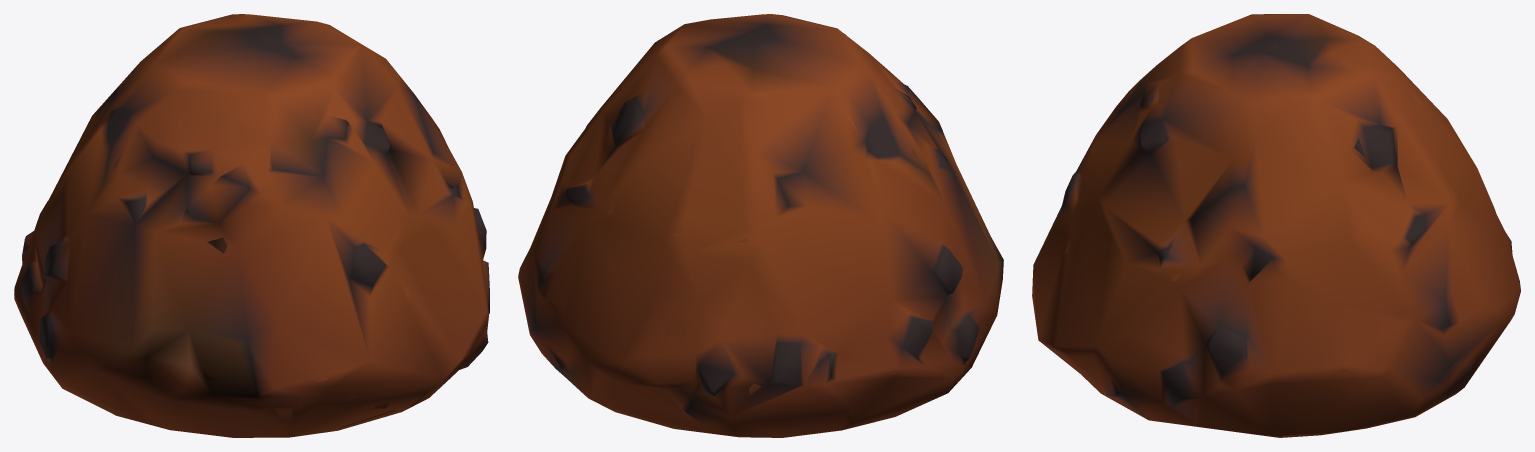
File: gen3d-volcanic-rock-lod1.glb
3 renders of one model, left to right at view 1: azimuth 30°, elevation 25°; view 2: azimuth 150°, elevation 25°; view 3: azimuth 270°, elevation 25°, orthographic.
Parts seen in each view (by area): view 1: part_0; view 2: part_0; view 3: part_0.
Boxes of the visible parts, <box> form: part_0: <box>14,14,489,437</box>; part_0: <box>518,14,1003,437</box>; part_0: <box>1032,14,1520,437</box>.
Size of the model in its own units: 1.33 by 0.9929 by 1.37.
